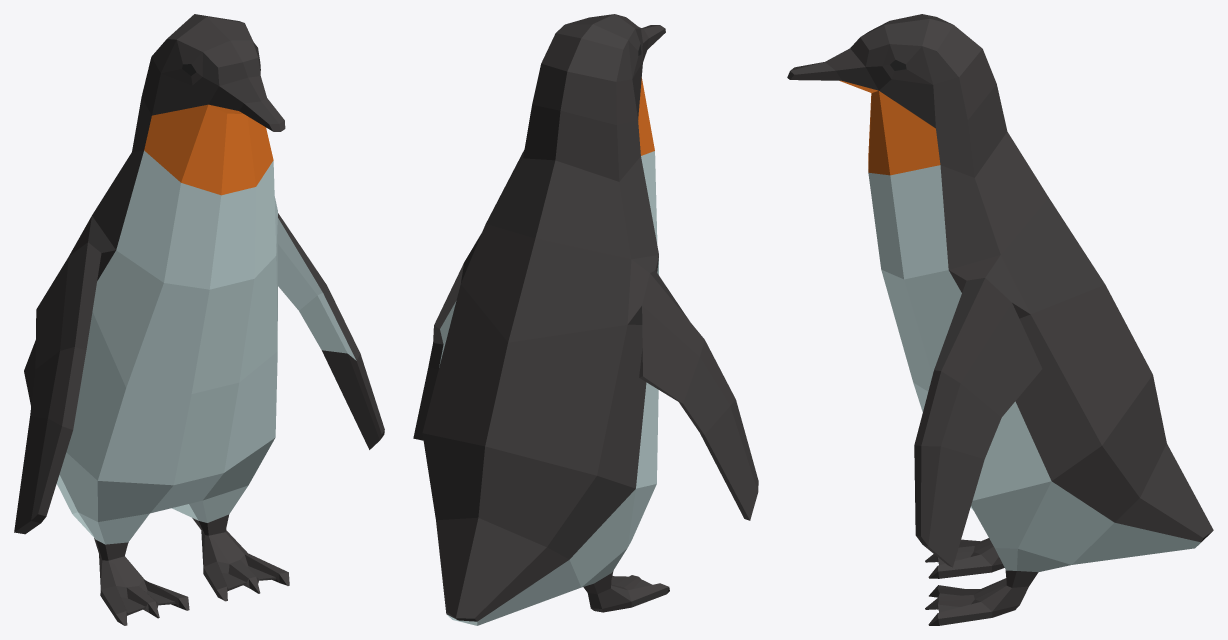
File: penguin.glb
The picture shows the model from 3 angles, left to right: view 1: azimuth 30°, elevation 25°; view 2: azimuth 150°, elevation 25°; view 3: azimuth 270°, elevation 25°; orthographic projection. The views are drawn at different scales.
Parts seen in each view (by area): view 1: penguin; view 2: penguin; view 3: penguin.
Part boxes in pixels (x1,y1,x2,y2): penguin: (14, 14, 384, 625); penguin: (413, 14, 758, 625); penguin: (787, 14, 1213, 625).
Bounding box in the file's own units: 0.695 × 1.08 × 0.7358.
